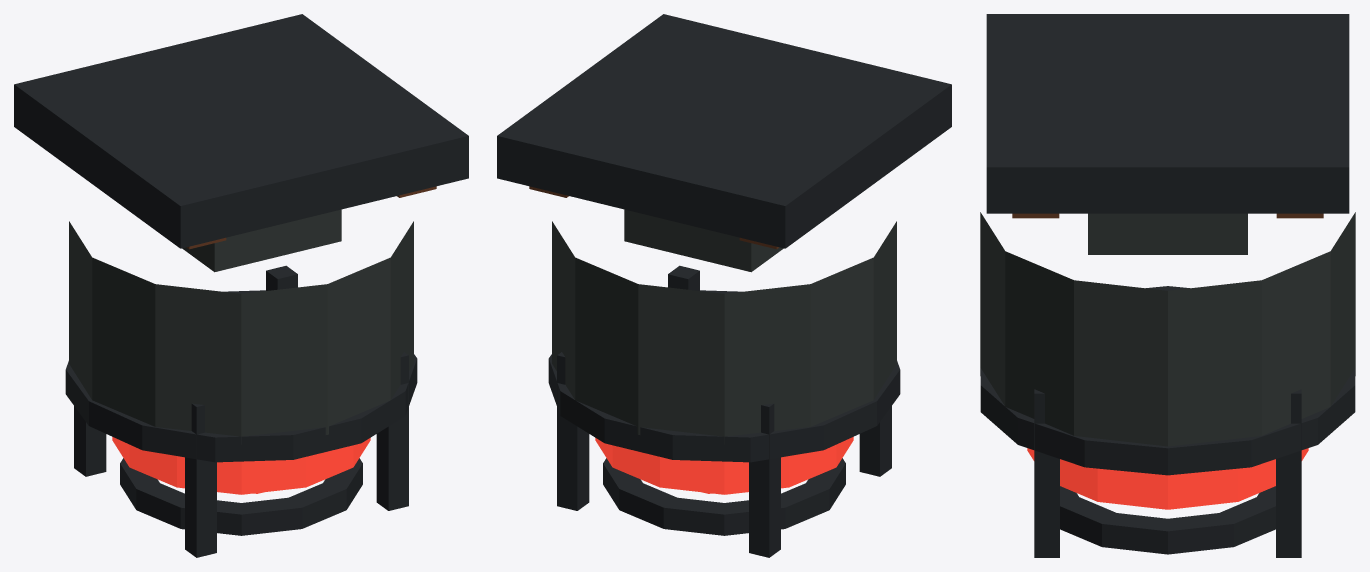
File: lamp_red.glb
The picture shows the model from 3 angles, left to right: view 1: azimuth 30°, elevation 25°; view 2: azimuth 150°, elevation 25°; view 3: azimuth 270°, elevation 25°; orthographic projection. The views are drawn at different scales.
Parts seen in each view (by area): view 1: lamp_red; view 2: lamp_red; view 3: lamp_red.
Boxes of the visible parts, left/top/right/bottom form: lamp_red: left=14, top=14, right=468, bottom=557; lamp_red: left=497, top=14, right=951, bottom=557; lamp_red: left=980, top=14, right=1355, bottom=557.
Size of the model in its own units: 0.18 by 0.2125 by 0.176.
